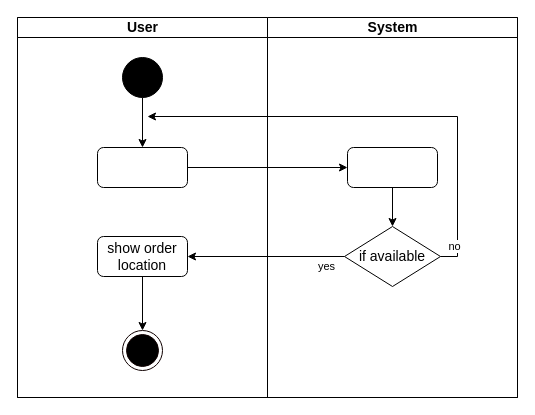
Image size: 535x415. Some labels were removed from this diagram. Each missing label, with the centre of its shape:
search order: point 392,167
Track Order: point 142,167
